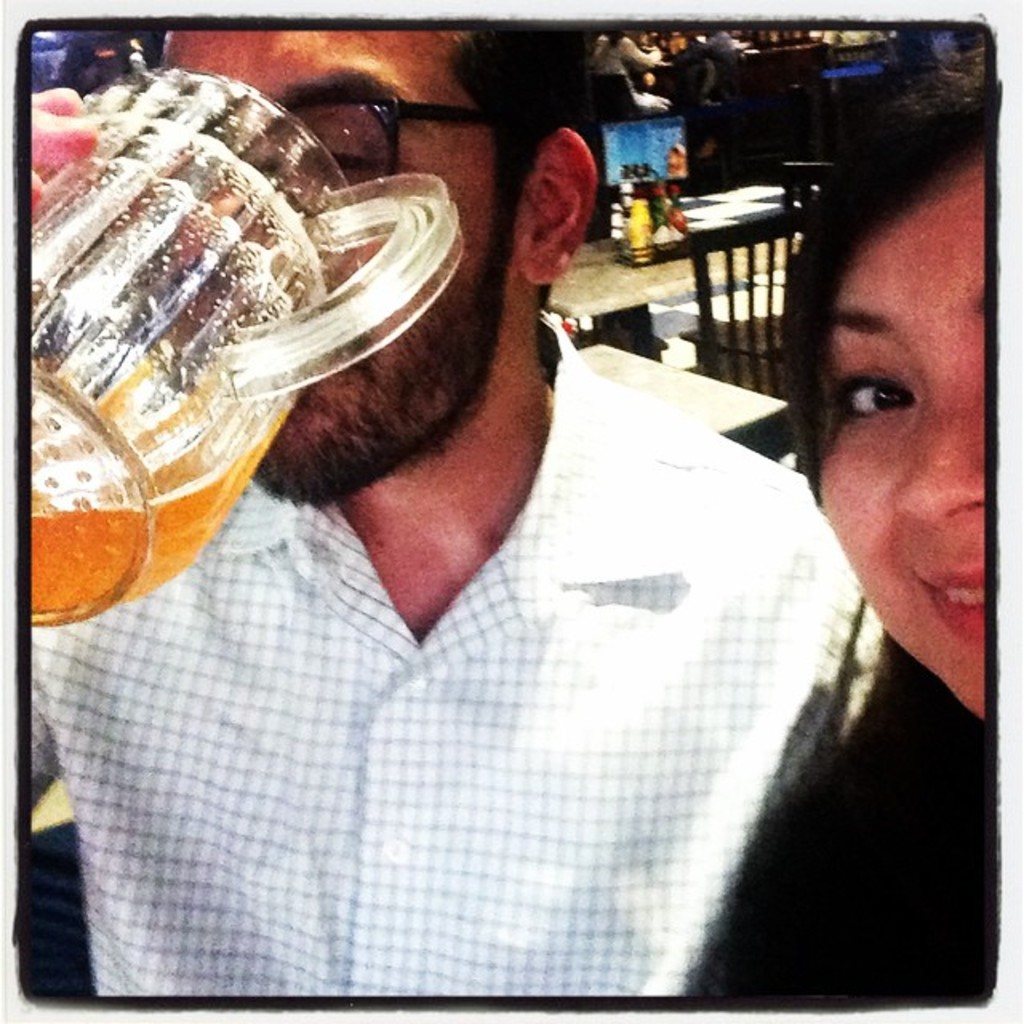Beer: (30, 371, 294, 627)
